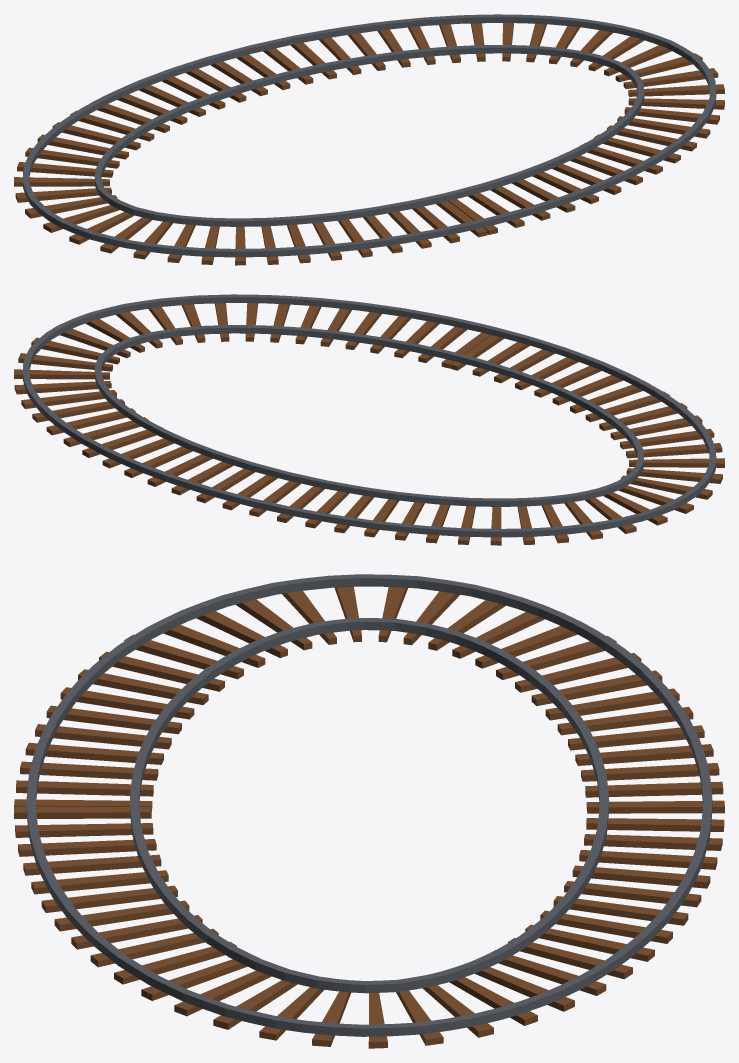
File: TrainTrack.fbx
3 renders of one model, top to bottom at view 1: azimuth 30°, elevation 25°; view 2: azimuth 150°, elevation 25°; view 3: azimuth 270°, elevation 25°, orthographic. The views are drawn at different scales.
Parts seen in each view (by area): view 1: TrainTrack_Sleepers, TrainTrack_Rails; view 2: TrainTrack_Sleepers, TrainTrack_Rails; view 3: TrainTrack_Sleepers, TrainTrack_Rails.
Part boxes in pixels (bbox=[...]): TrainTrack_Sleepers: bbox=[14, 23, 724, 265]; TrainTrack_Rails: bbox=[23, 14, 716, 257]; TrainTrack_Sleepers: bbox=[14, 303, 724, 545]; TrainTrack_Rails: bbox=[23, 294, 716, 537]; TrainTrack_Sleepers: bbox=[14, 586, 724, 1048]; TrainTrack_Rails: bbox=[26, 574, 712, 1036].
Size of the model in its own units: 0.9586 by 0.014 by 0.6195.
